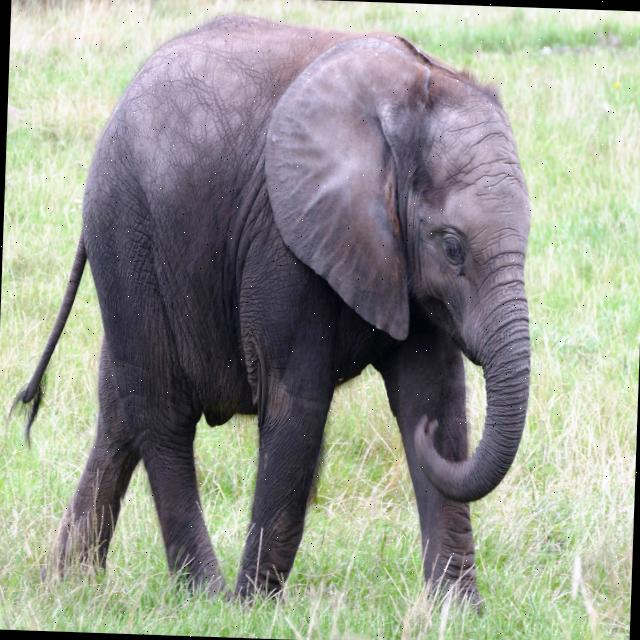Elephant: (0, 7, 541, 625)
